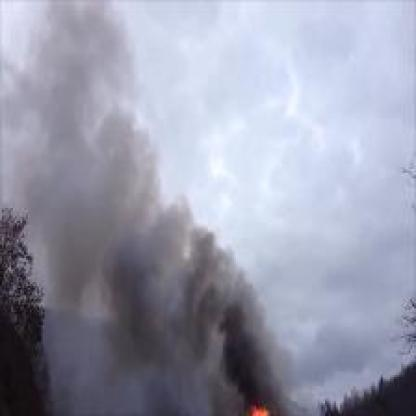fire: (241, 402, 273, 412)
smoke: (8, 43, 280, 384)
